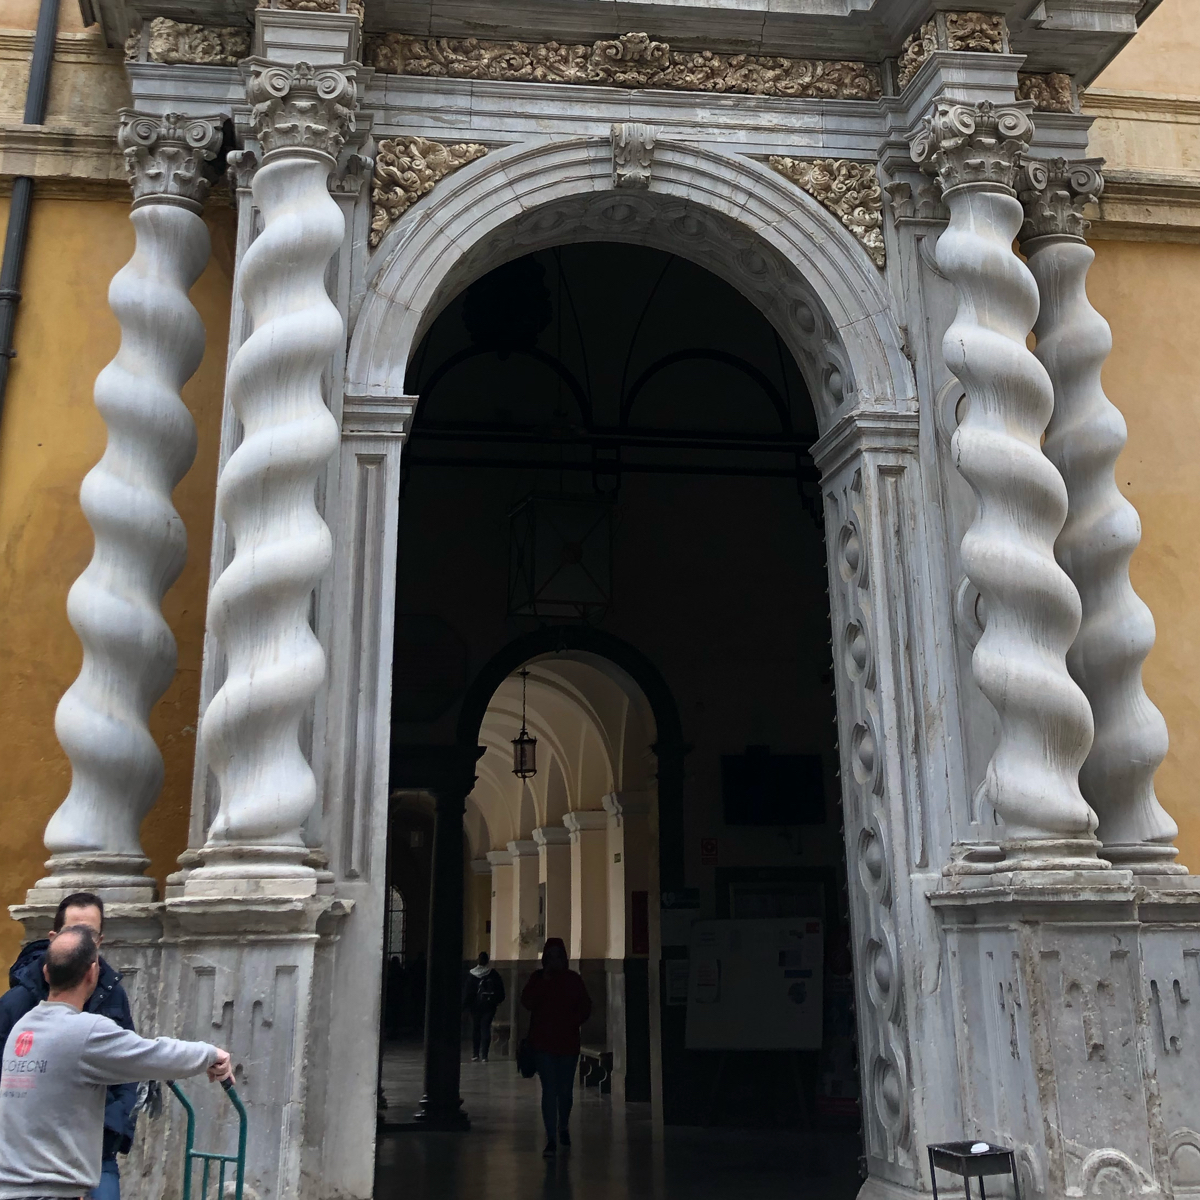arco-medio-punto: (378, 151, 888, 487), (465, 638, 676, 782)
columna-salomonica: (190, 138, 364, 869), (35, 213, 223, 885), (932, 192, 1115, 863), (1032, 253, 1196, 855)
